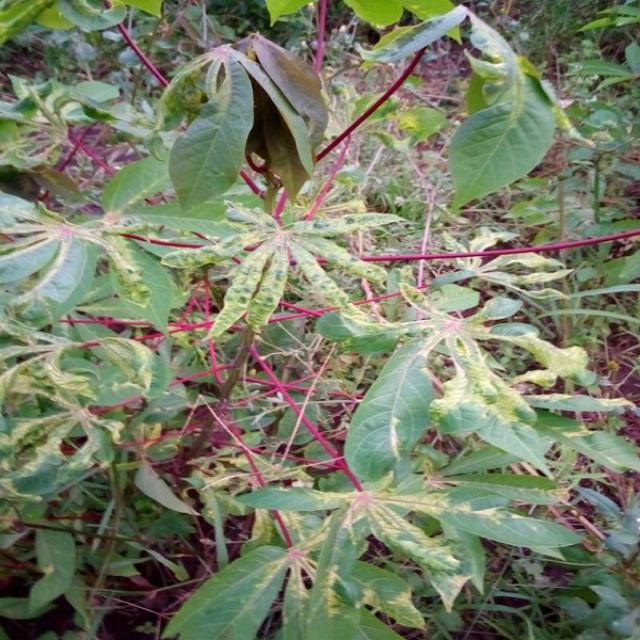cassava leaf: (154, 31, 328, 212), (446, 52, 557, 214), (168, 50, 255, 211), (342, 336, 436, 485)
